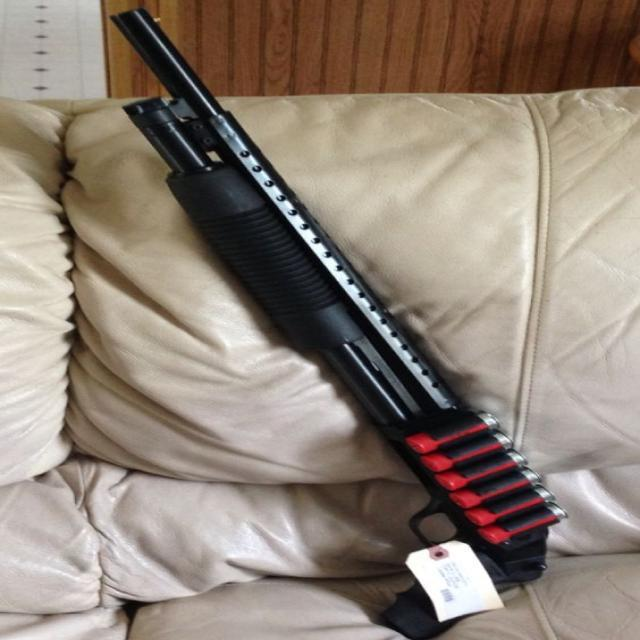shotgun: (89, 3, 572, 620)
